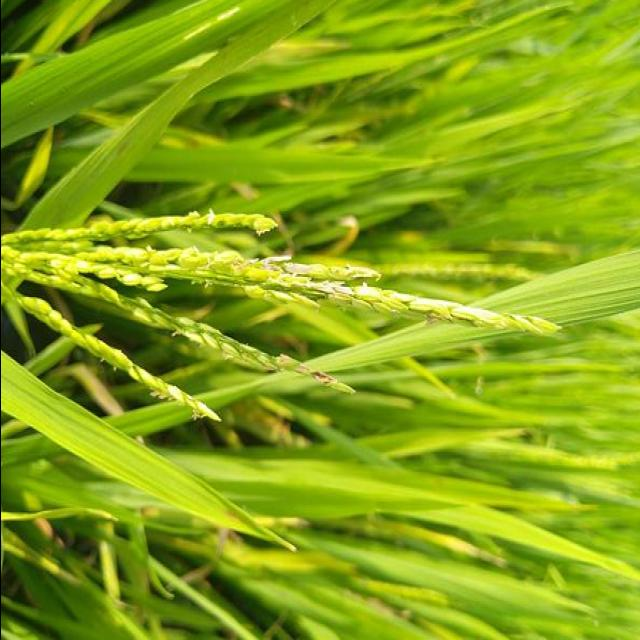Panicle Blight: (247, 254, 312, 276), (310, 370, 338, 386)
